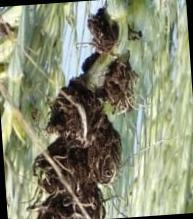Wheat: (48, 197, 97, 219), (39, 158, 66, 186), (53, 109, 95, 126), (96, 137, 114, 176), (69, 159, 94, 185), (106, 79, 131, 99), (50, 144, 93, 155), (95, 18, 112, 44), (58, 96, 95, 107), (64, 129, 94, 141), (52, 187, 95, 193), (114, 63, 128, 77), (97, 121, 109, 135), (63, 90, 88, 95), (68, 80, 84, 87), (116, 137, 120, 157), (115, 26, 119, 38), (99, 8, 105, 15)
